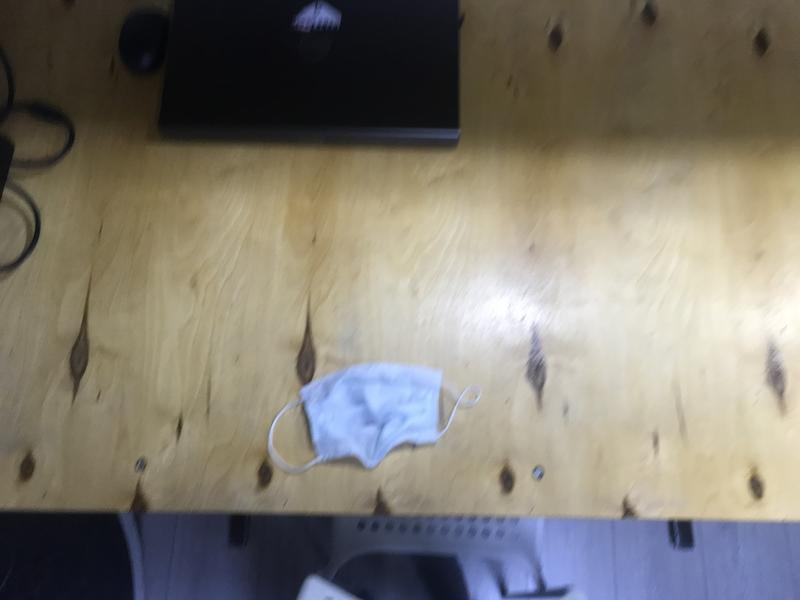medical_mask: (269, 363, 480, 471)
